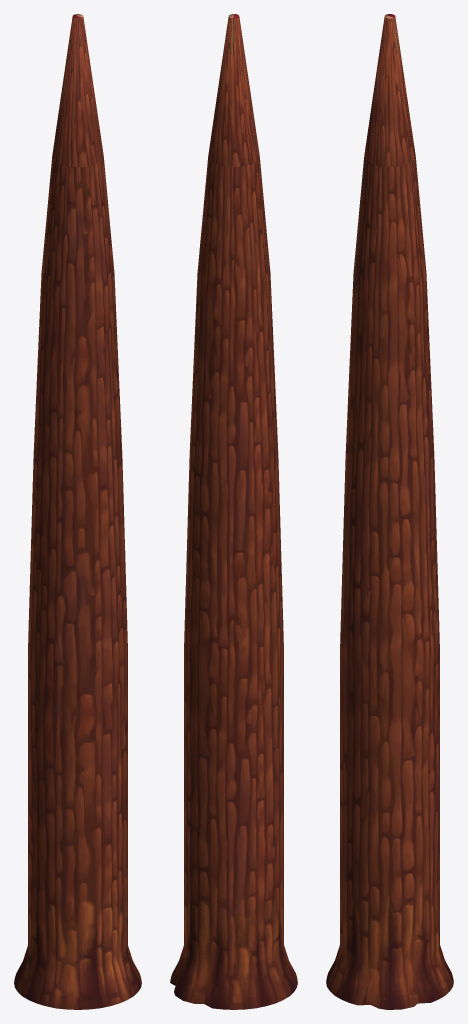
File: fat redwood.FBX
3 renders of one model, left to right at view 1: azimuth 90°, elevation 25°; view 2: azimuth 210°, elevation 25°; view 3: azimuth 270°, elevation 25°, orthographic.
Parts seen in each view (by area): view 1: fat redwood; view 2: fat redwood; view 3: fat redwood.
Part boxes in pixels (bbox=[...]): fat redwood: bbox=[14, 14, 141, 1009]; fat redwood: bbox=[170, 14, 297, 1009]; fat redwood: bbox=[326, 14, 453, 1009].
Size of the model in its own units: 533 by 4366 by 524.
